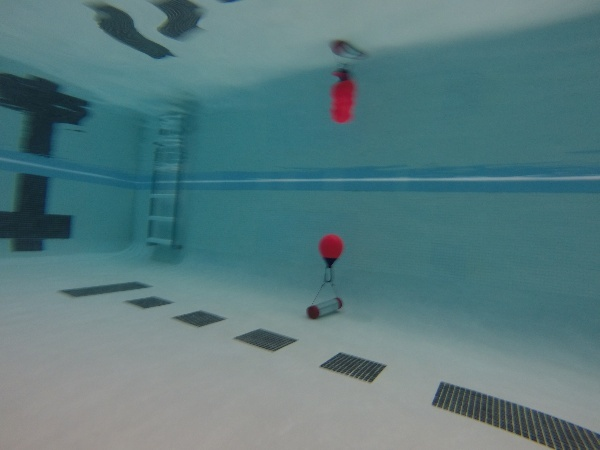buoy_red: (314, 232, 346, 269)
